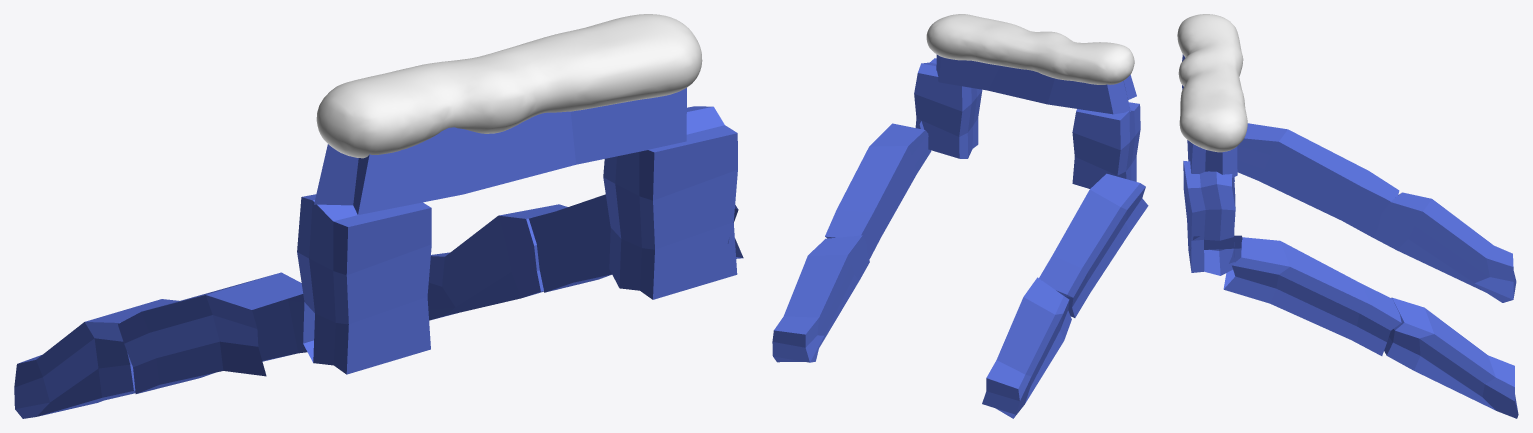
File: BlueGoal.fbx
The picture shows the model from 3 angles, left to right: view 1: azimuth 30°, elevation 25°; view 2: azimuth 150°, elevation 25°; view 3: azimuth 270°, elevation 25°; orthographic projection. The views are drawn at different scales.
Parts seen in each view (by area): view 1: cube.001; view 2: cube.001; view 3: cube.001.
Boxes of the visible parts, x1=… form: cube.001: x1=14, y1=14, x2=743, y2=418; cube.001: x1=772, y1=14, x2=1148, y2=418; cube.001: x1=1177, y1=14, x2=1518, y2=418.
Bounding box in the file's own units: 300 × 296 × 311.
